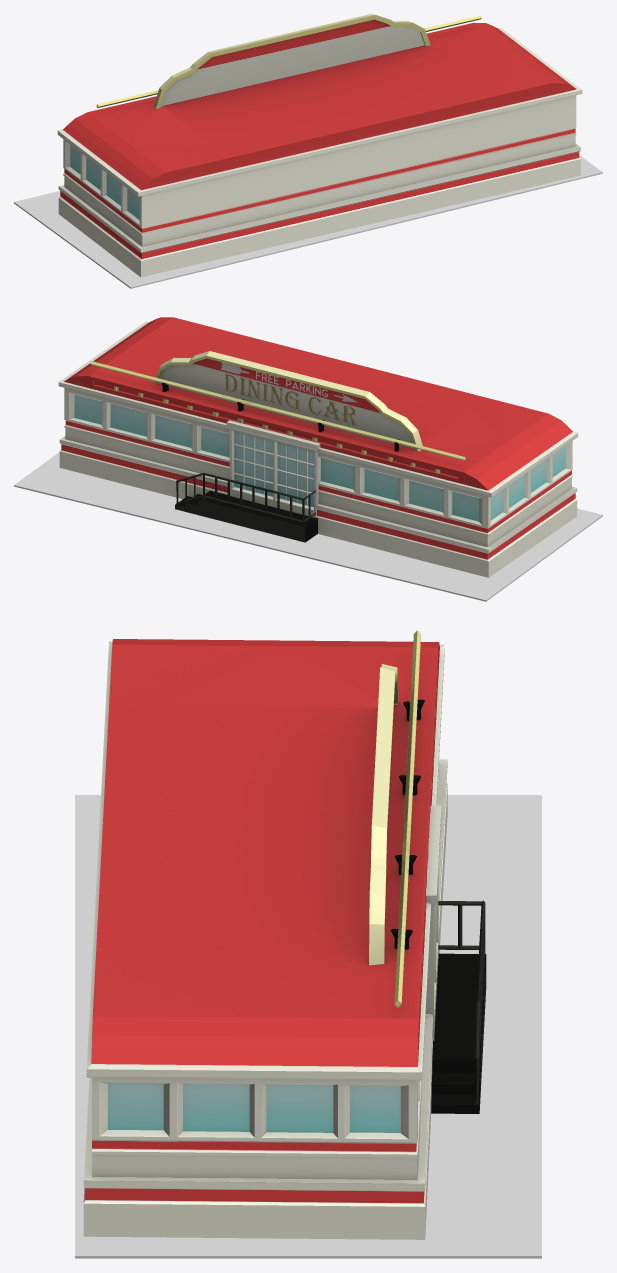
Rendered from dinning.glb.
3 renders of one model, top to bottom at view 1: azimuth 30°, elevation 25°; view 2: azimuth 150°, elevation 25°; view 3: azimuth 270°, elevation 25°, orthographic. The views are drawn at different scales.
Visible parts, largest first — view 1: Diner_mesh, Cube; view 2: Diner_mesh, Cube; view 3: Diner_mesh, Cube.
Part boxes in pixels (x1,y1,x2,y2): Diner_mesh: (57,14,582,277); Cube: (14,155,602,288); Diner_mesh: (58,317,578,577); Cube: (14,452,602,601); Diner_mesh: (83,630,486,1239); Cube: (75,795,541,1258).
Bounding box in the file's own units: 70 × 20.1 × 30.
Materials: 2 (1 with a texture image).
